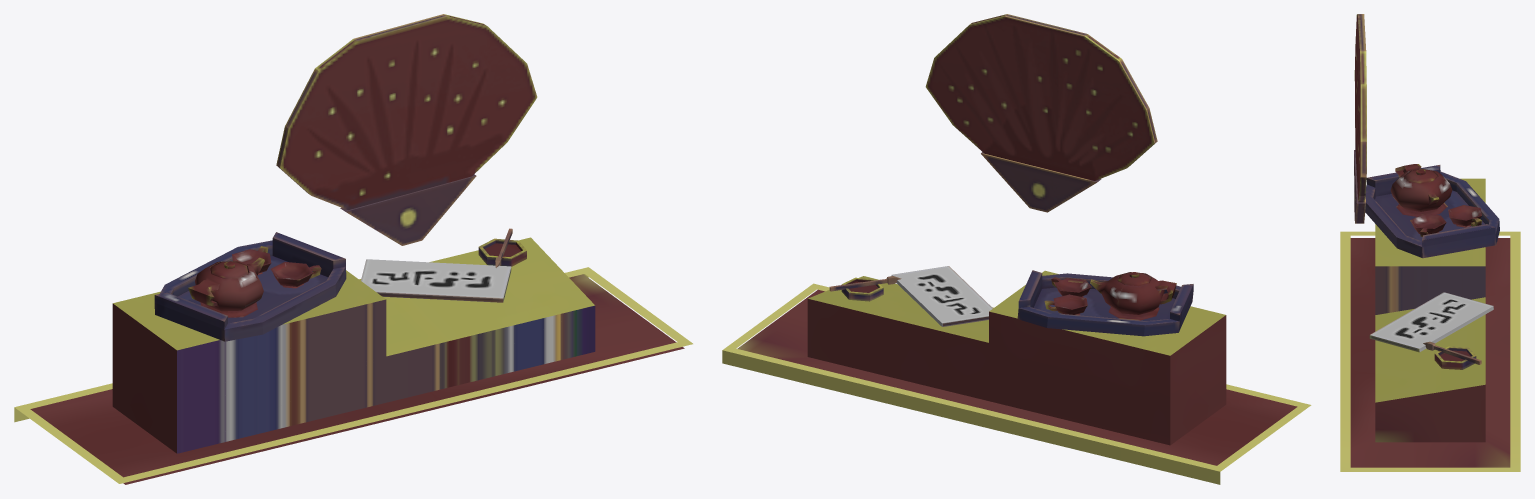
The model's file is chinese.glb.
3 renders of one model, left to right at view 1: azimuth 30°, elevation 25°; view 2: azimuth 150°, elevation 25°; view 3: azimuth 270°, elevation 25°, orthographic. The views are drawn at different scales.
Visible parts, largest first — view 1: chinese; view 2: chinese; view 3: chinese.
Part boxes in pixels (bbox=[...]): chinese: bbox=[14, 14, 692, 484]; chinese: bbox=[722, 14, 1311, 484]; chinese: bbox=[1340, 14, 1520, 471].
Size of the model in its own units: 6.31 by 4.11 by 2.
1 material, 1 textured.
